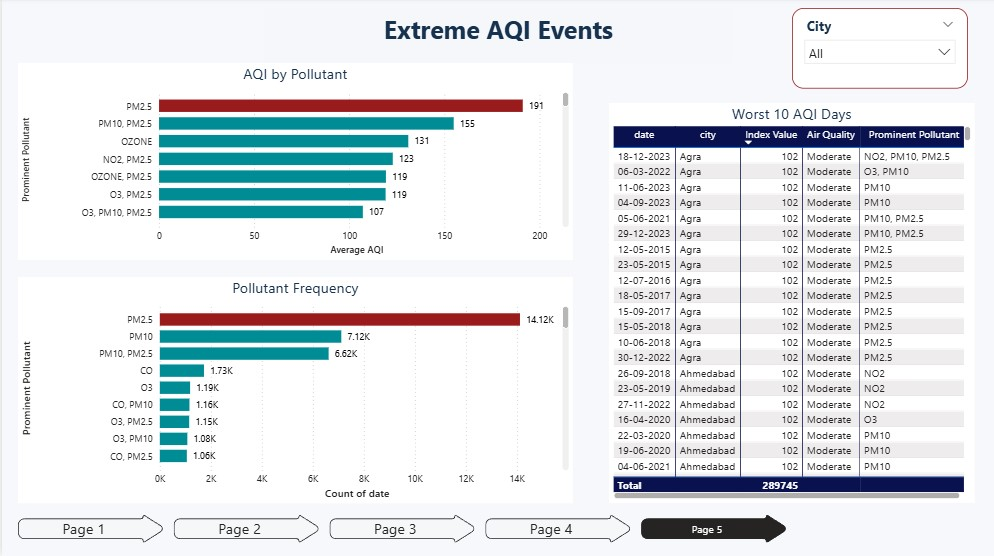

The dashboard page shown, as its layout file describes it:
{"tool":"powerbi","page":{"name":"Page 5","canvas":[1280,720],"ordinal":4},"visuals":[{"type":"textbox","box":[337.6,13.4,604.7,70.6],"z":0},{"type":"tableEx","title":"Worst  10 AQI Days","fields":{"Values":["finalized_data.date","finalized_data.city","Sum(finalized_data.Index Value)","finalized_data.Air Quality","finalized_data.Prominent Pollutant"]},"box":[782.8,136.1,472,515.7],"z":1000},{"type":"clusteredBarChart","title":"AQI by Pollutant","fields":{"Y":["finalized_data.Average AQI"],"Category":["finalized_data.Prominent Pollutant"]},"box":[20.2,84,715.6,253.6],"z":2000},{"type":"clusteredBarChart","title":"Pollutant Frequency","fields":{"Category":["finalized_data.Prominent Pollutant"],"Y":["CountNonNull(finalized_data.date)"]},"box":[20.2,359.5,715.6,292.3],"z":3000},{"type":"pageNavigator","box":[20.2,665.2,999.5,38.6],"z":4000},{"type":"slicer","fields":{"Values":["finalized_data.city"]},"box":[1019.6,13.4,226.8,104.1],"z":5000}]}

Visuals, with their boxes in screenshot pixels (x1, y1, x2, y2), scaled from the page's 1280x720 canvas onto the 994x556 screenshot:
textbox: (left=262, top=10, right=732, bottom=65)
"Worst  10 AQI Days" tableEx: (left=608, top=105, right=974, bottom=503)
"AQI by Pollutant" clusteredBarChart: (left=16, top=65, right=571, bottom=261)
"Pollutant Frequency" clusteredBarChart: (left=16, top=278, right=571, bottom=503)
pageNavigator: (left=16, top=514, right=792, bottom=543)
slicer - finalized_data.city: (left=792, top=10, right=968, bottom=91)
